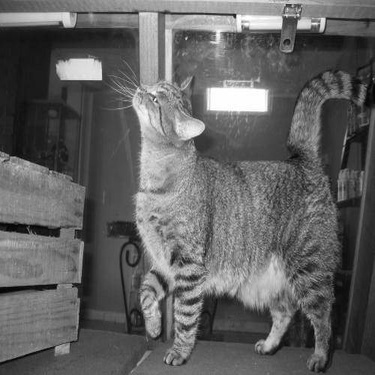cat: (132, 67, 364, 369)
